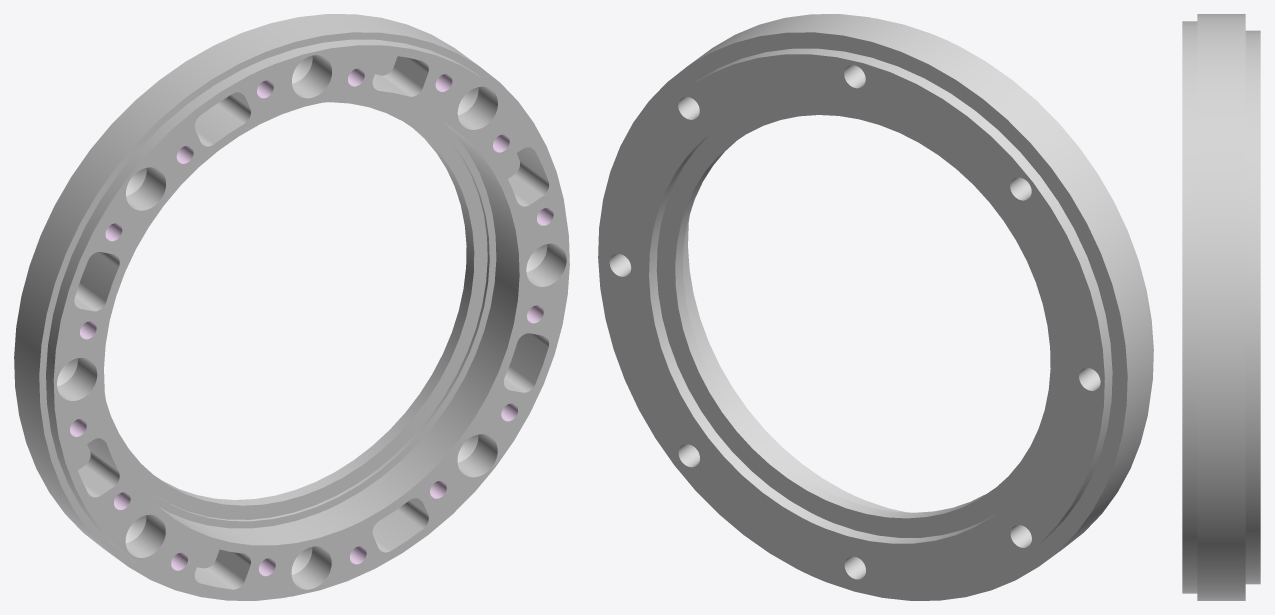
Rendered from BJJ02040309________3.gltf.
The picture shows the model from 3 angles, left to right: view 1: azimuth 30°, elevation 25°; view 2: azimuth 150°, elevation 25°; view 3: azimuth 270°, elevation 25°; orthographic projection. The views are drawn at different scales.
Visible parts, largest first — view 1: mesh37993, mesh38123, mesh38120, mesh38130, mesh38122, mesh38121, mesh38132, mesh38129, mesh38131, mesh38025, mesh37998, mesh38059 (+9 smaller); view 2: mesh38126, mesh38124, mesh38128, mesh38123, mesh38125, mesh38127, mesh38129, mesh38120, mesh38121; view 3: mesh38123, mesh38121, mesh38125.
Part boxes in pixels (x1=…): mesh37993: x1=53, y1=45, x2=569, y2=599; mesh38123: x1=14, y1=14, x2=477, y2=565; mesh38120: x1=158, y1=122, x2=519, y2=545; mesh38130: x1=106, y1=99, x2=487, y2=519; mesh38122: x1=39, y1=32, x2=565, y2=600; mesh38121: x1=46, y1=39, x2=481, y2=563; mesh38132: x1=132, y1=106, x2=496, y2=528; mesh38129: x1=154, y1=129, x2=474, y2=505; mesh38131: x1=155, y1=116, x2=489, y2=521; mesh38025: x1=509, y1=333, x2=548, y2=383; mesh37998: x1=372, y1=510, x2=422, y2=550; mesh38059: x1=80, y1=252, x2=118, y2=301; mesh38126: x1=605, y1=54, x2=1104, y2=590; mesh38124: x1=598, y1=32, x2=1127, y2=600; mesh38128: x1=656, y1=101, x2=1061, y2=537; mesh38123: x1=689, y1=14, x2=1152, y2=564; mesh38125: x1=692, y1=48, x2=1112, y2=555; mesh38127: x1=649, y1=127, x2=996, y2=543; mesh38129: x1=675, y1=141, x2=994, y2=518; mesh38120: x1=683, y1=215, x2=905, y2=512; mesh38121: x1=875, y1=18, x2=1153, y2=384; mesh38123: x1=1197, y1=14, x2=1245, y2=600; mesh38121: x1=1182, y1=21, x2=1197, y2=593; mesh38125: x1=1245, y1=30, x2=1260, y2=584.
Bounding box in the file's own units: 0.079 × 0.079 × 0.0105.
